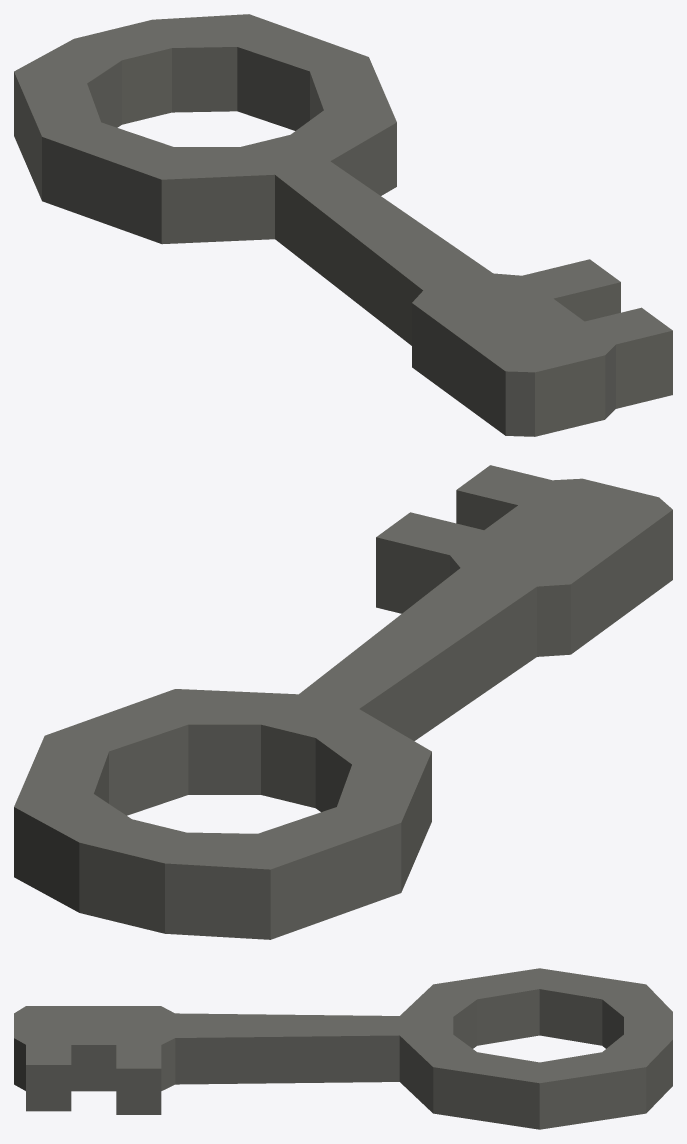
File: key_silver.gltf
3 renders of one model, top to bottom at view 1: azimuth 30°, elevation 25°; view 2: azimuth 150°, elevation 25°; view 3: azimuth 270°, elevation 25°, orthographic. The views are drawn at different scales.
Parts seen in each view (by area): view 1: Key_Silver; view 2: Key_Silver; view 3: Key_Silver.
Boxes of the visible parts, x1,y1,x2,y2 form: Key_Silver: (14, 14, 672, 436); Key_Silver: (14, 465, 672, 939); Key_Silver: (14, 968, 672, 1129).
Bounding box in the file's own units: 0.1061 × 0.02 × 0.257.
1 material, 1 textured.
